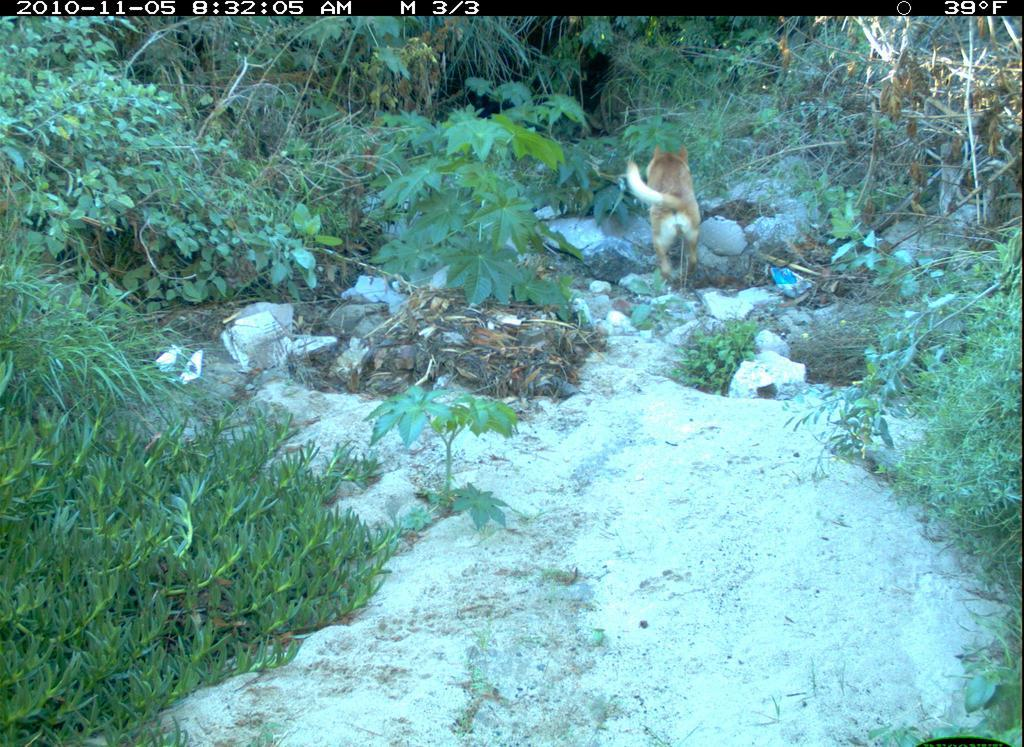dog: (620, 137, 715, 291)
